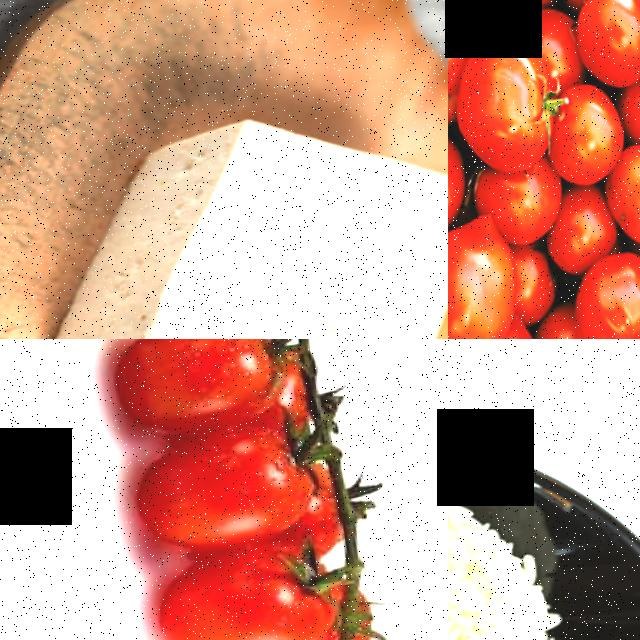tofu: (15, 90, 448, 339)
tomato: (119, 422, 319, 571), (98, 339, 291, 452), (136, 538, 336, 640), (448, 30, 563, 183), (554, 249, 640, 339)
white rice: (448, 470, 555, 640)
